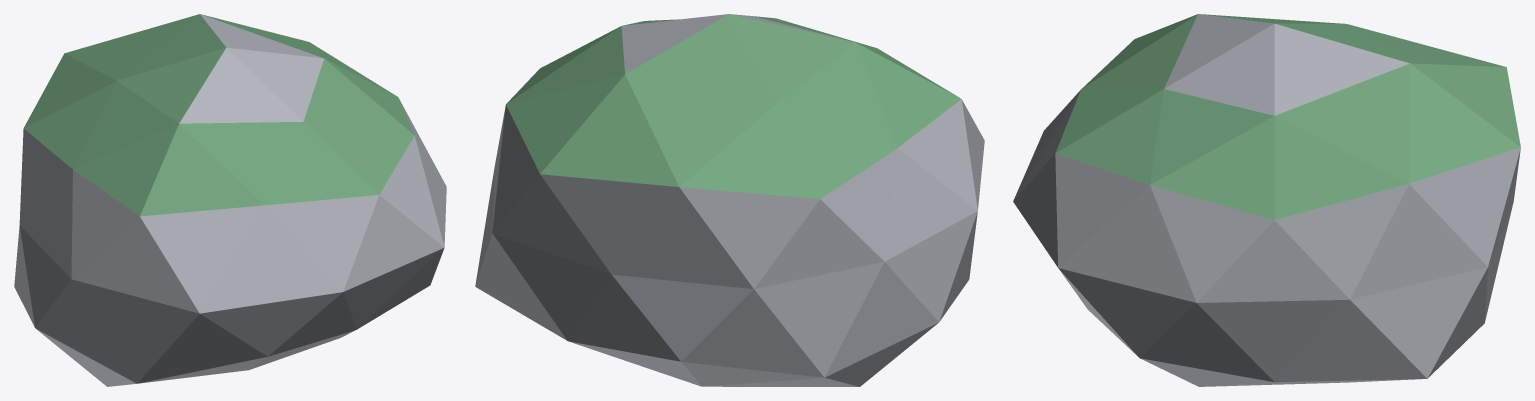
Rendered from Boulder_A.glb.
3 renders of one model, left to right at view 1: azimuth 30°, elevation 25°; view 2: azimuth 150°, elevation 25°; view 3: azimuth 270°, elevation 25°, orthographic. The views are drawn at different scales.
Visible parts, largest first — view 1: Boulder_A; view 2: Boulder_A; view 3: Boulder_A.
Part boxes in pixels (<box>): Boulder_A: <box>14,14,446,386</box>; Boulder_A: <box>475,14,984,386</box>; Boulder_A: <box>1013,14,1520,386</box>.
Bounding box in the file's own units: 1.92 × 1.54 × 2.
